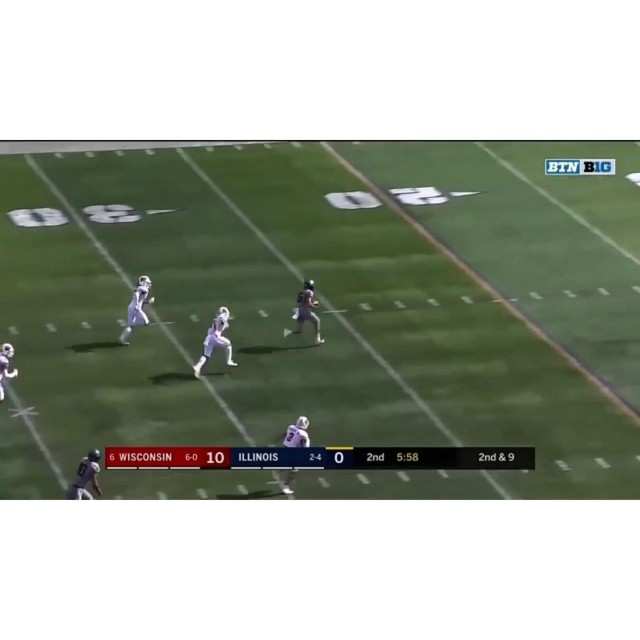american-football-player: (191, 306, 239, 379), (114, 275, 157, 346), (283, 279, 325, 347), (65, 448, 104, 500), (0, 343, 19, 422), (280, 415, 311, 447)
